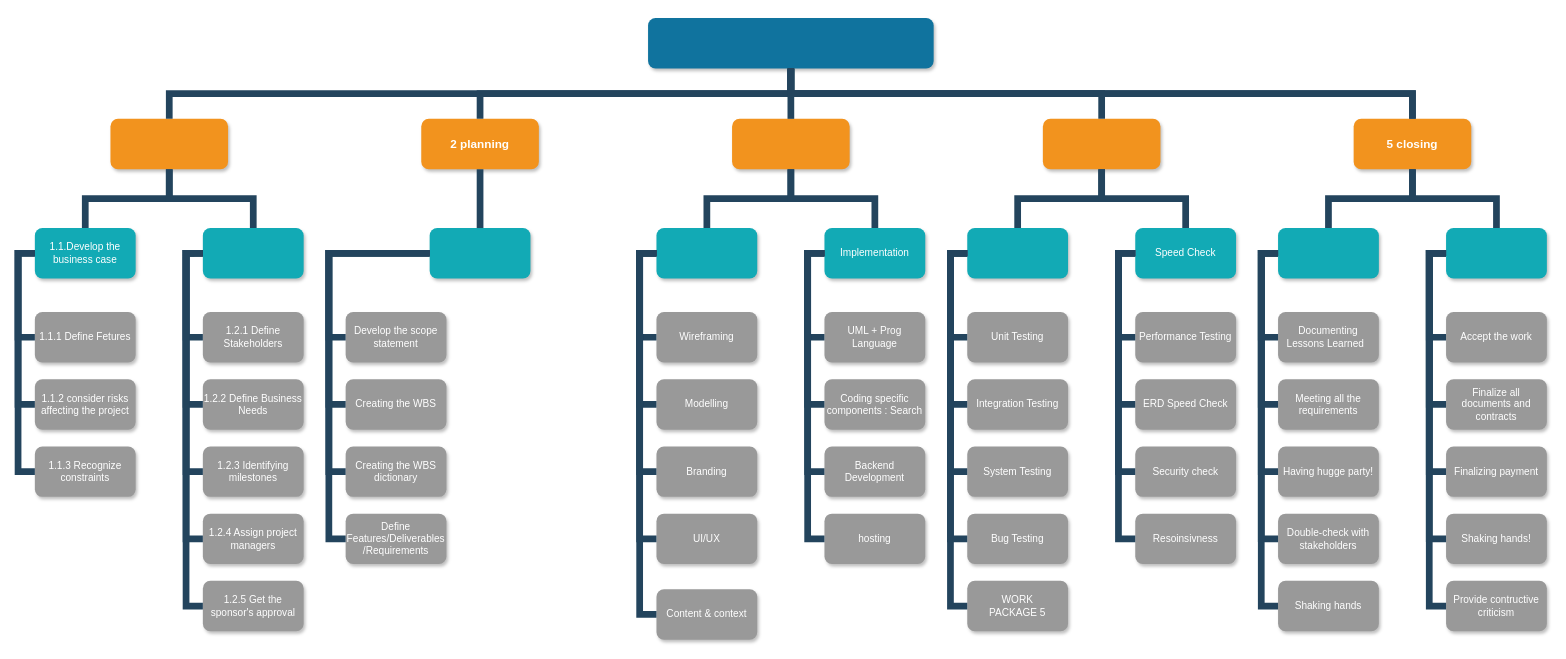
This 1566x659 diagram has some shape labels left out. The centre of each missing label's shape, as x and y in pixels:
"1 : Preinitiation/initiation" belongs at point 170,145.
"1.2 Develop the project charter" belongs at point 253,254.
"3 Executing" belongs at point 791,145.
"4 monitoring and control" belongs at point 1102,145.
"Client" belongs at point 1496,254.
"Desining" belongs at point 707,254.
"Develop Website" belongs at point 791,44.
"Development Team" belongs at point 1328,254.
"Scope" belongs at point 480,254.
"Testing" belongs at point 1018,254.
